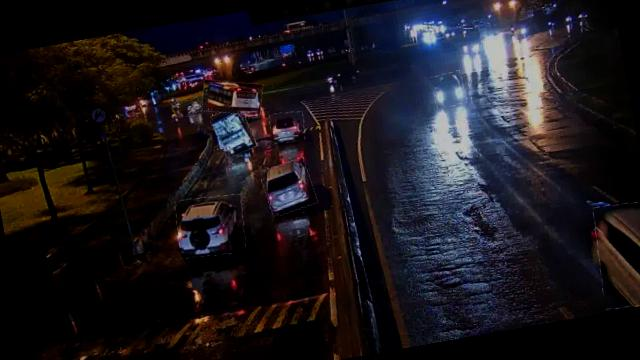Bus: (198, 73, 266, 121)
Car: (589, 199, 640, 311), (172, 190, 249, 261), (260, 158, 317, 216), (431, 70, 467, 108), (268, 110, 307, 144), (177, 97, 202, 116)
Truck: (210, 104, 256, 158)
